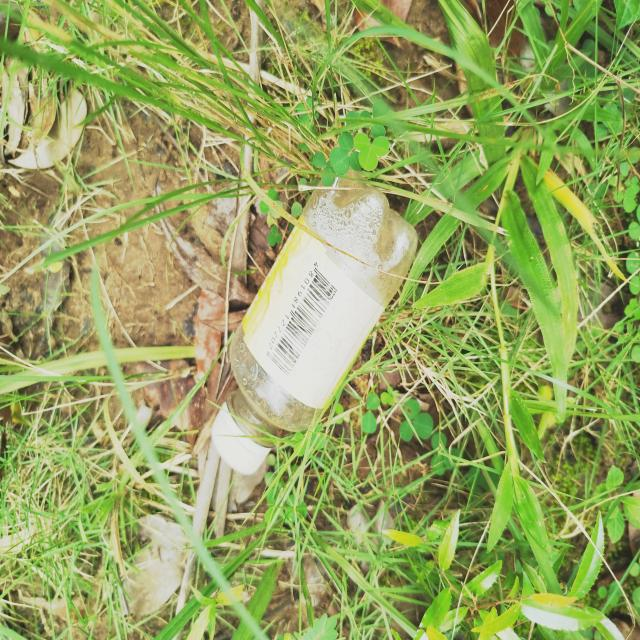plastic: (207, 156, 427, 485)
